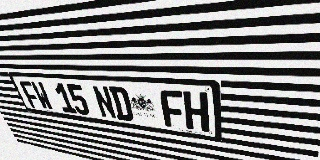1: (52, 83, 77, 114)
5: (66, 84, 91, 116)
D: (108, 86, 135, 122)
F: (159, 89, 186, 129), (18, 81, 43, 109)
H: (183, 91, 209, 132)
N: (91, 85, 117, 119)
W: (30, 81, 54, 111)
